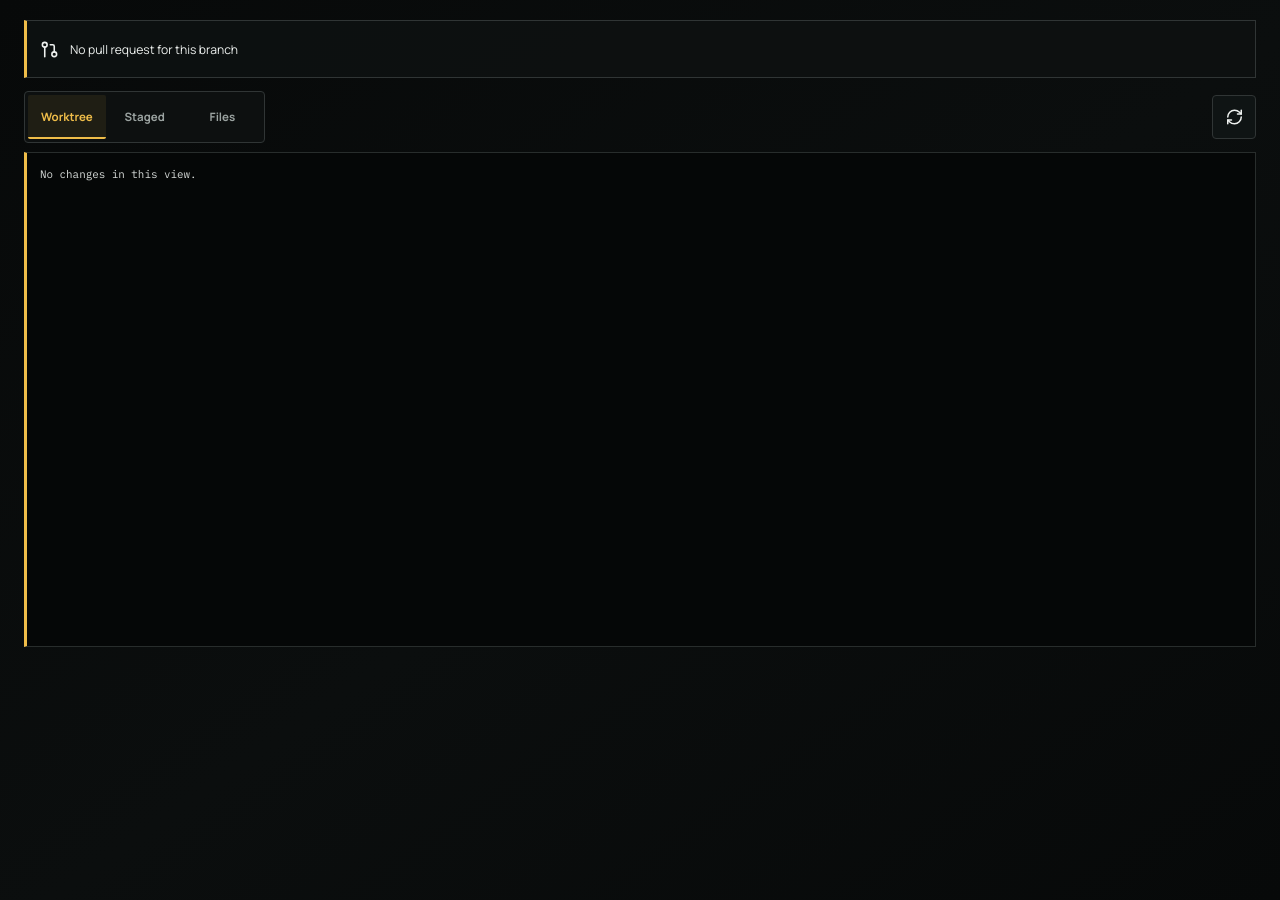
Test: lists untracked and modified files on the Files tab, including files a diff would omit
Expected: the element with test id "repository-diff" is shown, [24,152,1256,647]
Click the button "Files": (222, 117) [184,95,261,139]
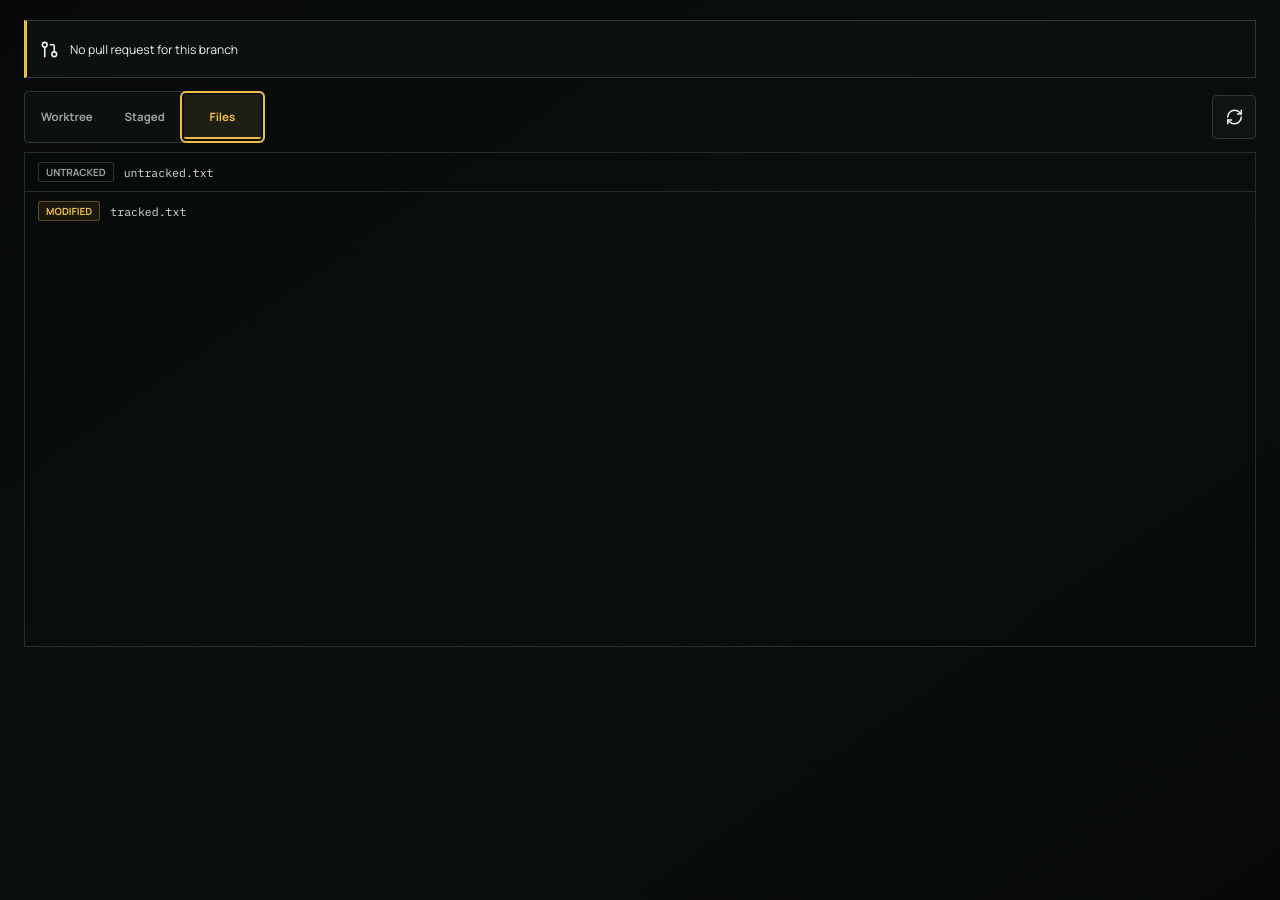
Now the text "untracked.txt" is shown, box [124,164,214,180]
Now the text "Untracked" is shown, box [38,162,114,182]
Now the text "tracked.txt" is shown, box [110,204,186,218]
